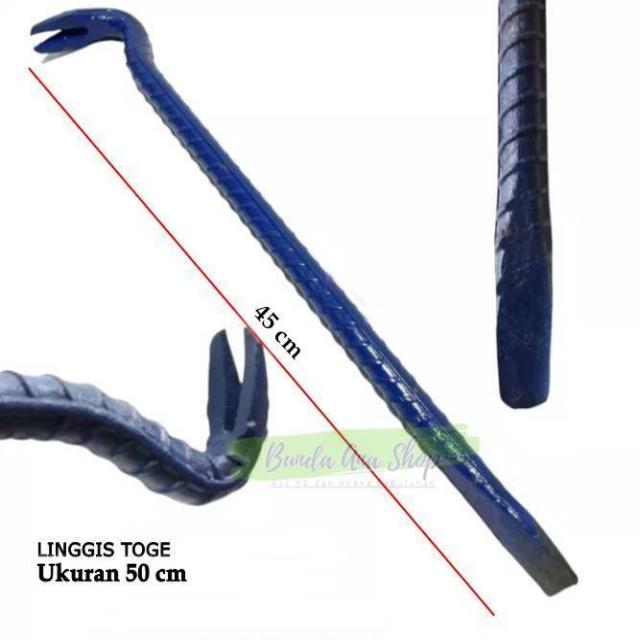Linggis: (31, 6, 580, 598)
